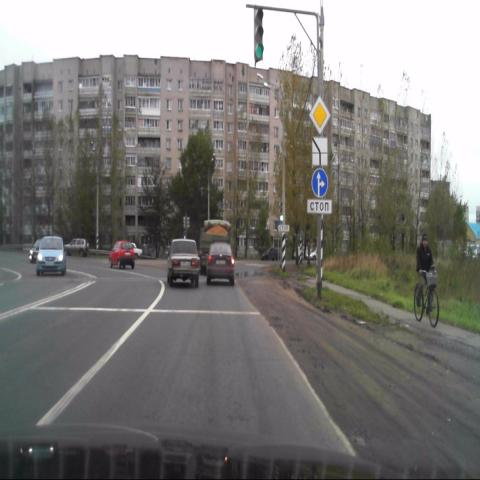4_1_4: (311, 168, 328, 196)
